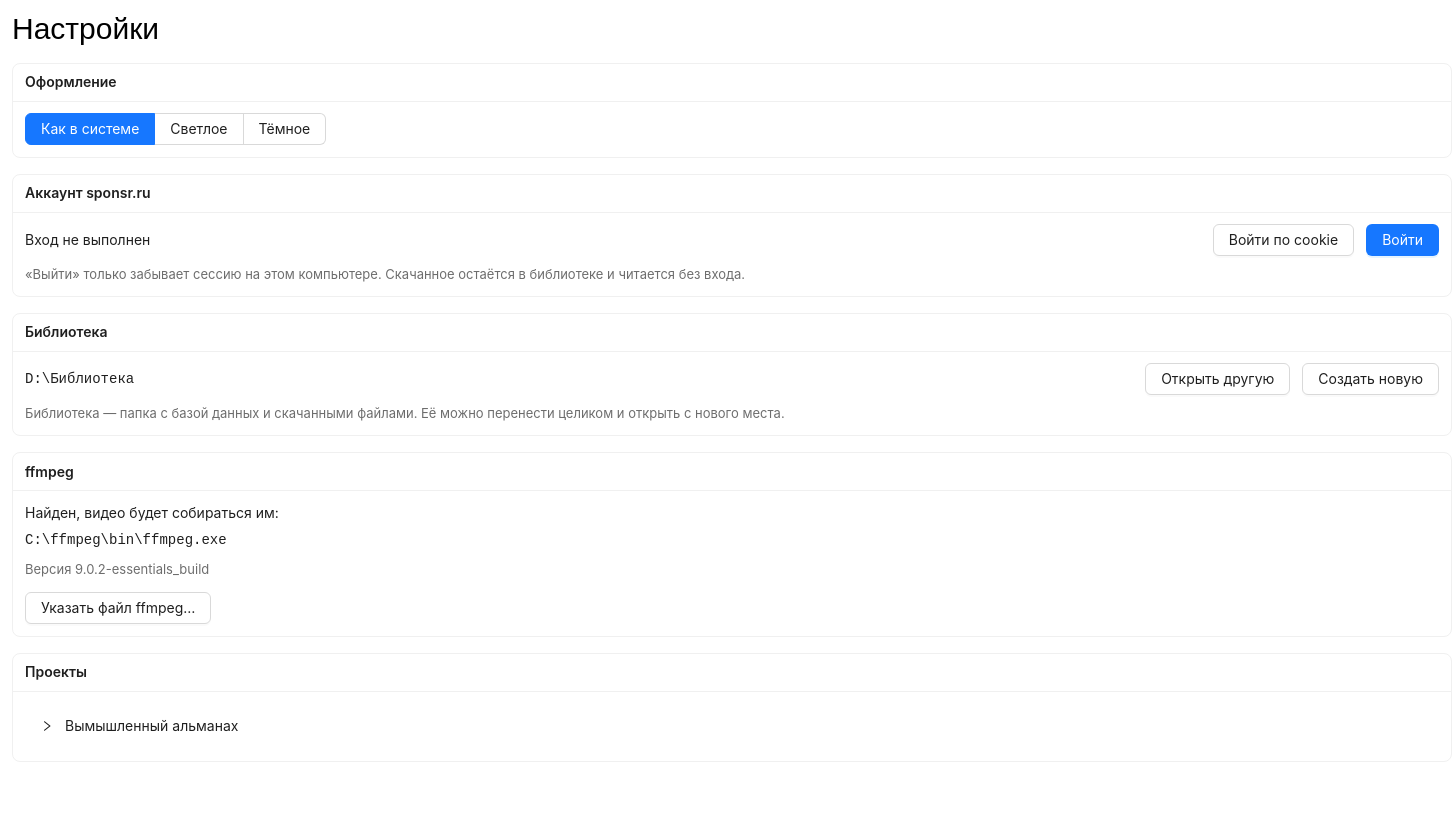
Test: SettingsView › shows where the library is and opens another one
Click the button "Открыть другую" at point(1218, 379), box [1145, 363, 1290, 395]
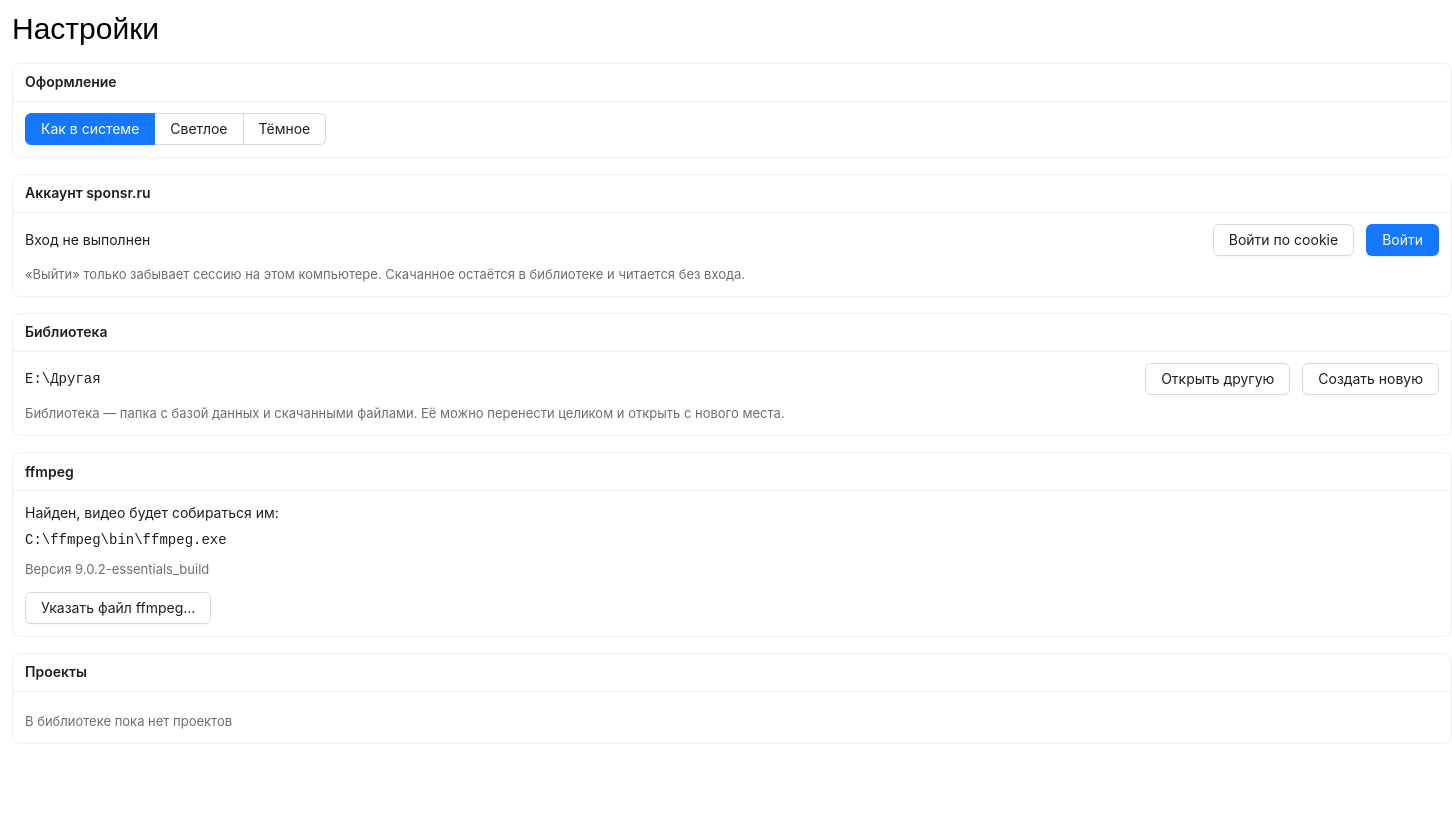
Now the text "E:\\Другая" is shown, box [25, 371, 101, 387]
